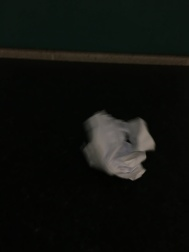paper_white: (68, 101, 164, 191)
